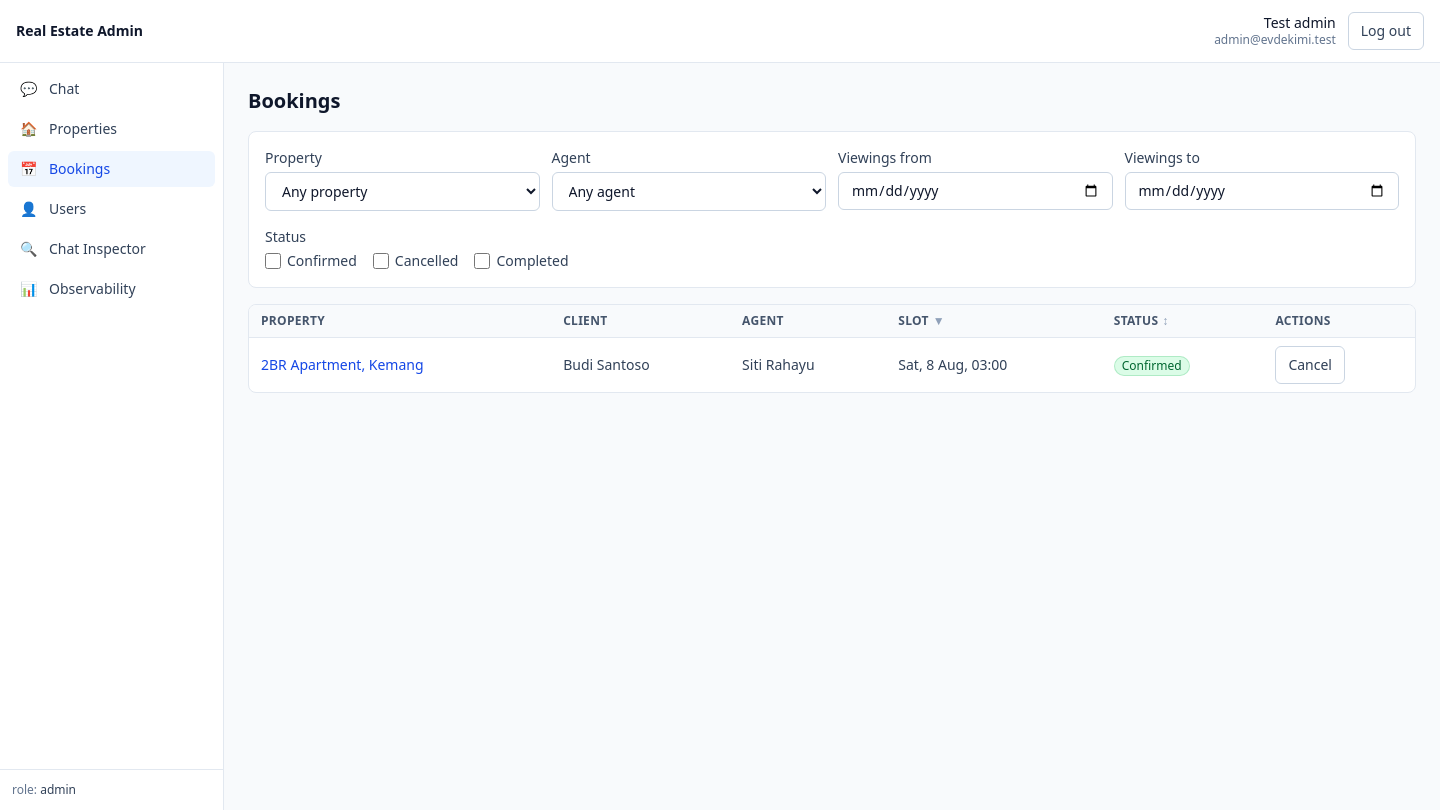
Test case: BookingsPage › cancels from a row behind a confirmation, and reflects the new status
The image size is (1440, 810).
Click the button "Cancel": coordinates (1310, 365) x1=1275 y1=346 x2=1345 y2=384
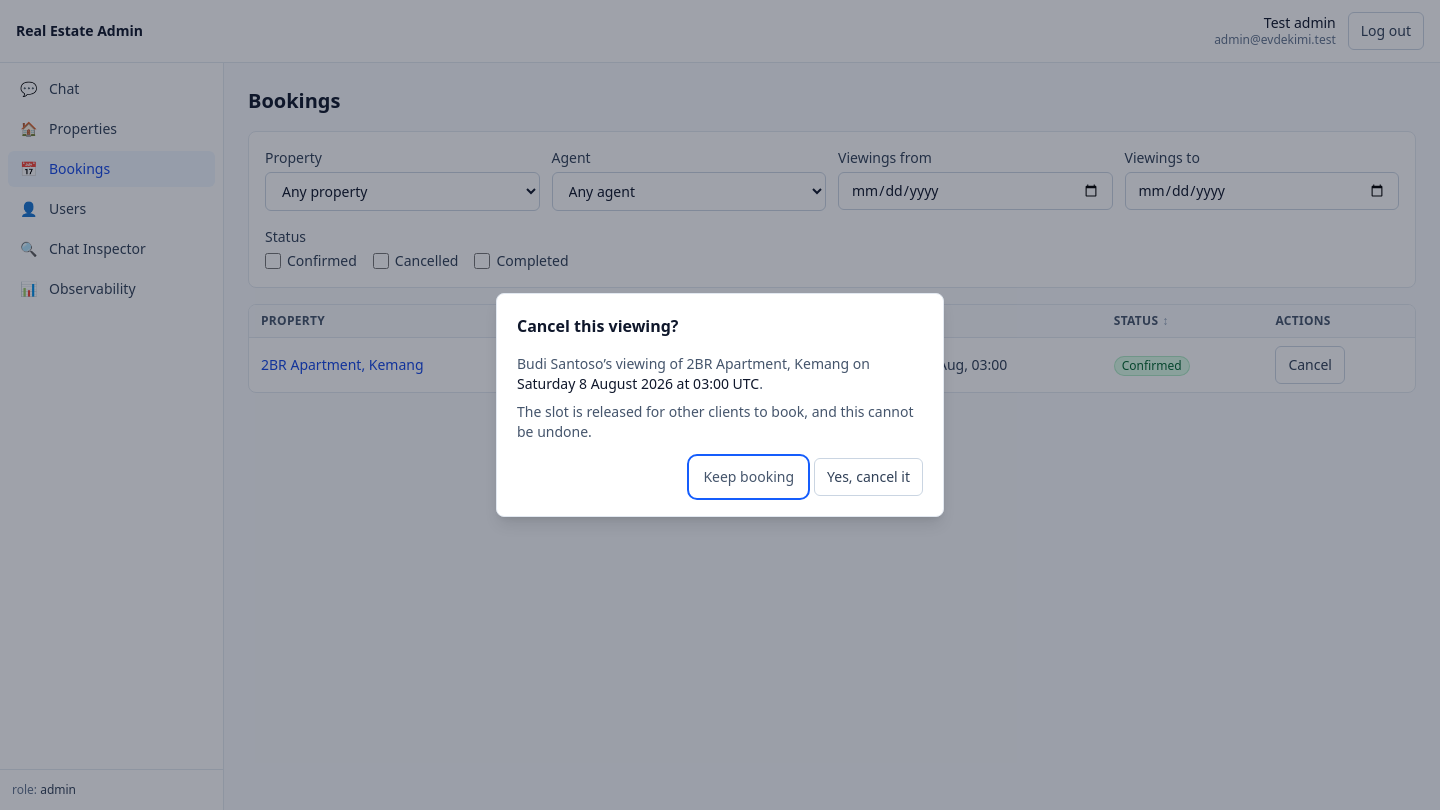
expect the text "cannot be undone" is shown: met, box x1=517 y1=402 x2=914 y2=441
Click the button "Yes, cancel it": coordinates (868, 477) x1=814 y1=458 x2=923 y2=496
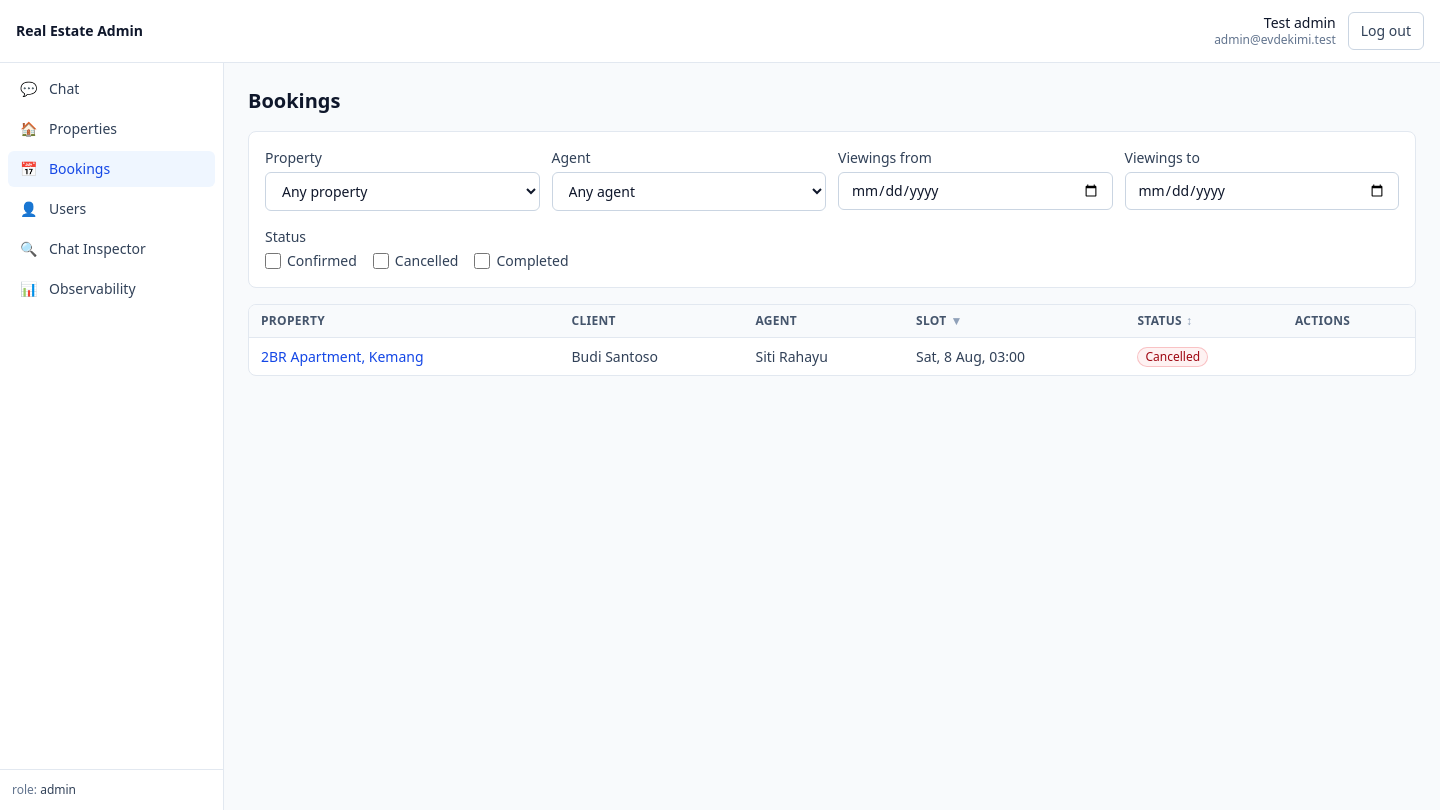
expect the text with test id "status-badge" reads "Cancelled": met, box x1=1145 y1=348 x2=1200 y2=365
